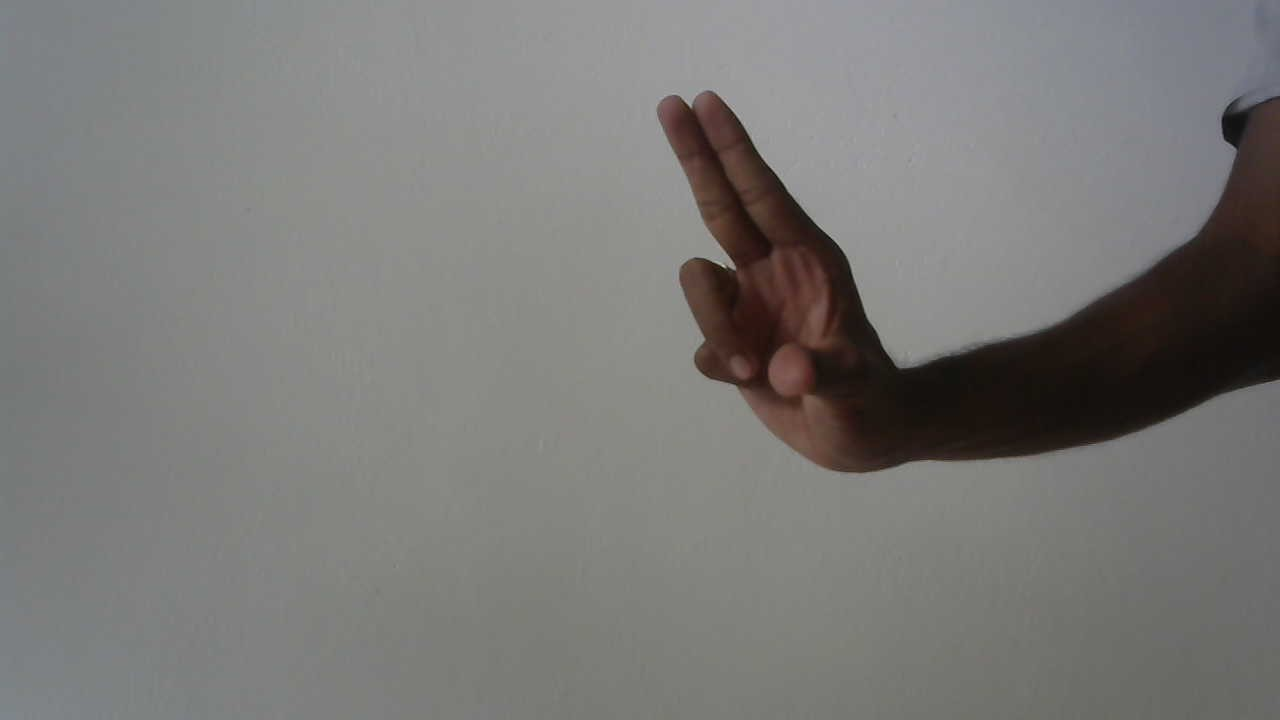no: (637, 77, 934, 494)
